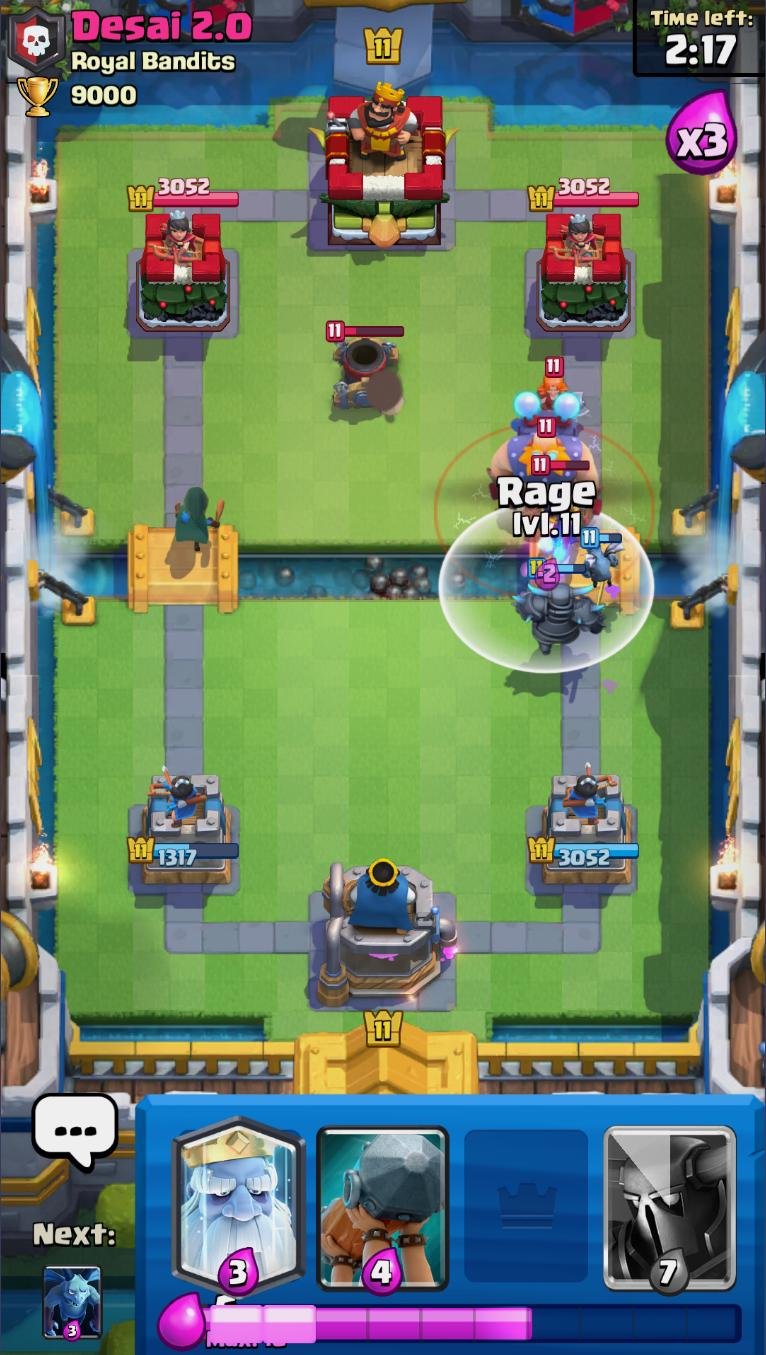BattleRamDeck: (311, 1095, 455, 1296)
ElectroGiant: (488, 390, 602, 527)
Elixir: (203, 1295, 744, 1350)
Empty: (456, 1094, 598, 1295)
EnemyTower: (533, 208, 631, 331), (133, 210, 229, 335)
KingTower: (308, 82, 456, 248)
MinionsNext: (40, 1264, 105, 1344)
Mortar: (325, 319, 406, 409)
MyBandit: (173, 487, 224, 553)
MyKingTower: (319, 856, 458, 1009)
MyMinion: (578, 528, 623, 588)
MyPekka: (511, 558, 608, 654)
MyPrincessTower: (524, 771, 639, 887), (125, 769, 238, 887)
MyPrincessTowerHP: (125, 836, 238, 868), (525, 835, 637, 867)
PekkaDeck: (599, 1094, 744, 1296)
PrincessTower: (546, 213, 603, 264), (144, 214, 200, 264)
RoyaleGhostDeck: (167, 1095, 310, 1296)
TowerPrincessHP: (126, 178, 239, 213), (526, 178, 639, 212)
Valkyrie: (533, 358, 590, 418)
Witch: (530, 454, 593, 549)
